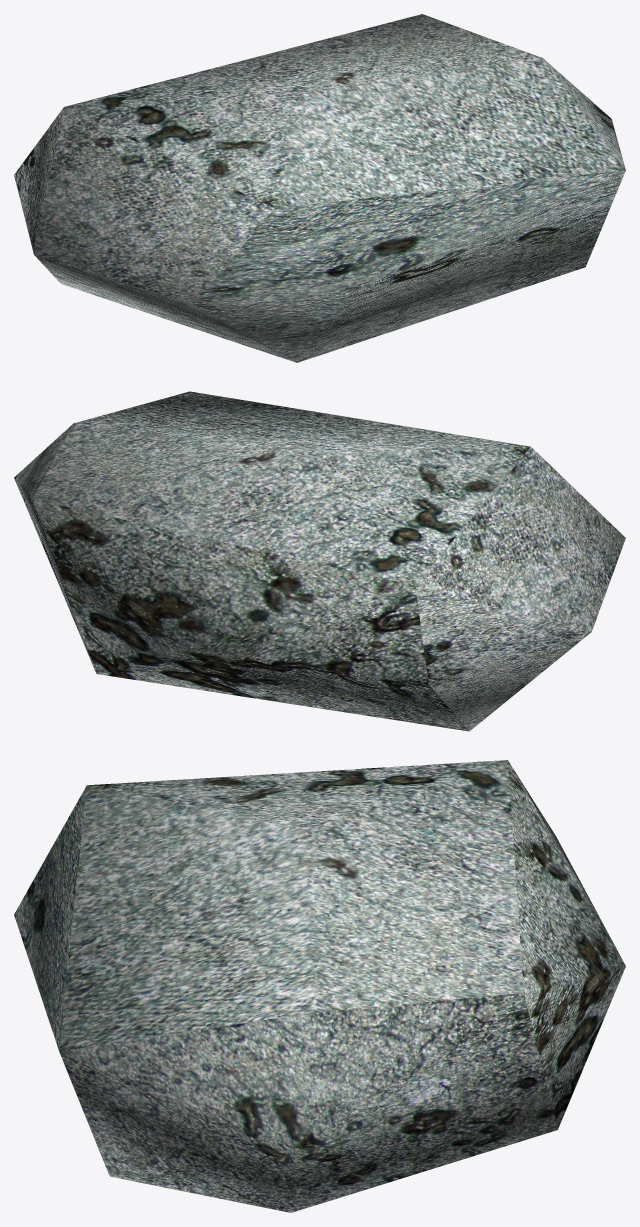
Rendered from Rock3_30.obj.
3 renders of one model, top to bottom at view 1: azimuth 30°, elevation 25°; view 2: azimuth 150°, elevation 25°; view 3: azimuth 270°, elevation 25°, orthographic. The views are drawn at different scales.
Visible parts, largest first — view 1: Cube_Cube.001; view 2: Cube_Cube.001; view 3: Cube_Cube.001.
Part boxes in pixels (bbox=[...]): Cube_Cube.001: bbox=[14, 14, 625, 362]; Cube_Cube.001: bbox=[14, 391, 625, 731]; Cube_Cube.001: bbox=[14, 760, 625, 1212].
Size of the model in its own units: 3.1 by 1.08 by 2.21.
